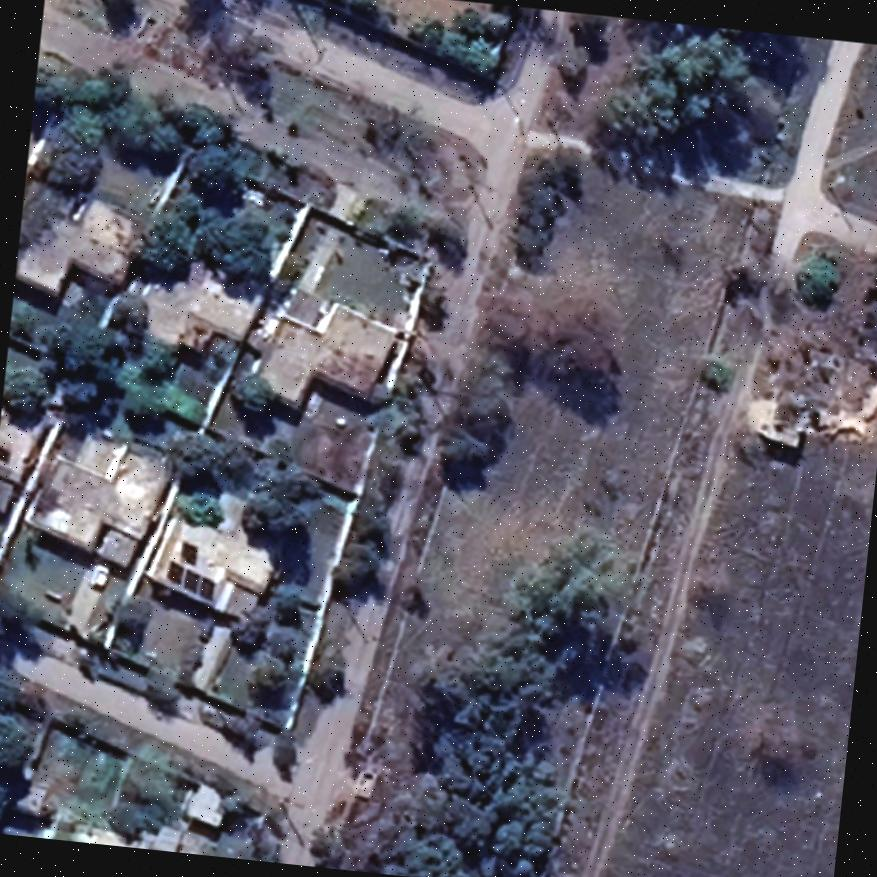Solarpanel: (160, 556, 222, 606), (176, 538, 202, 568)
